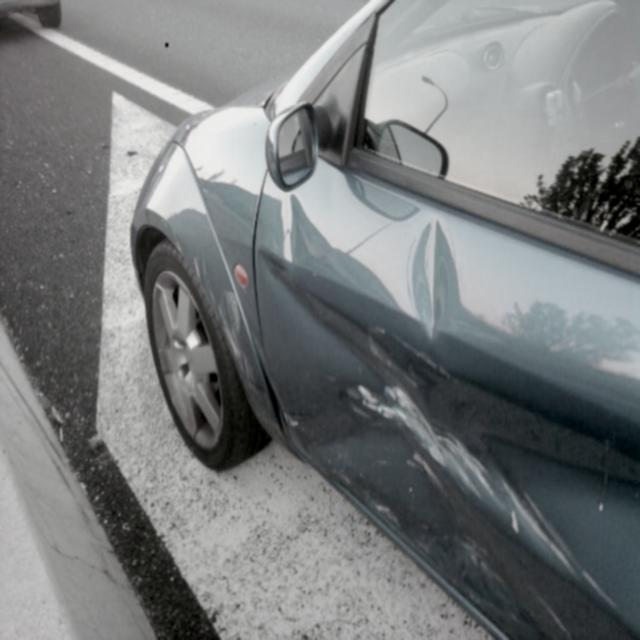minor: (409, 219, 461, 339)
severe: (318, 306, 611, 597)
